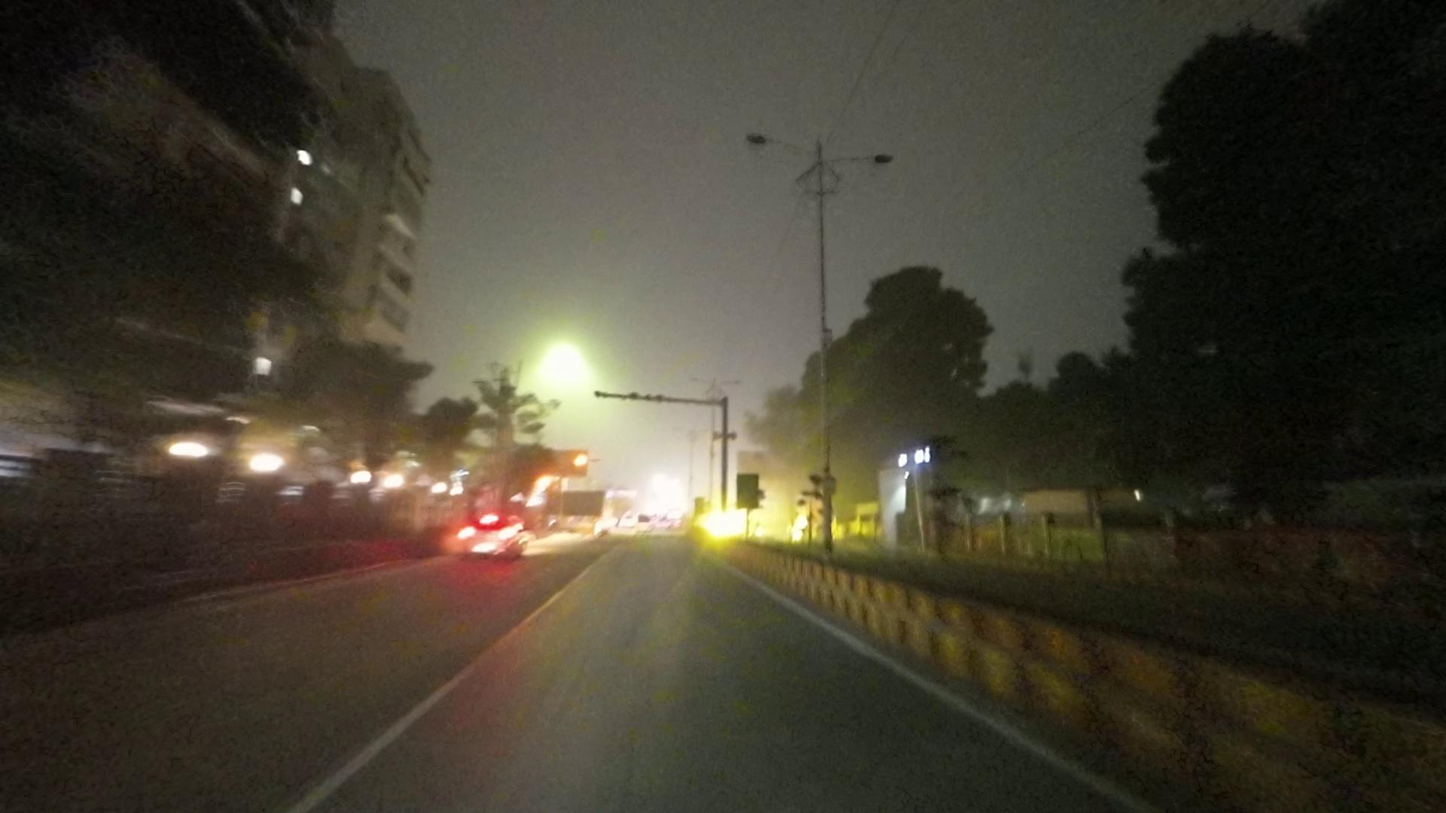streetlight: (745, 129, 815, 157), (832, 151, 899, 169)
